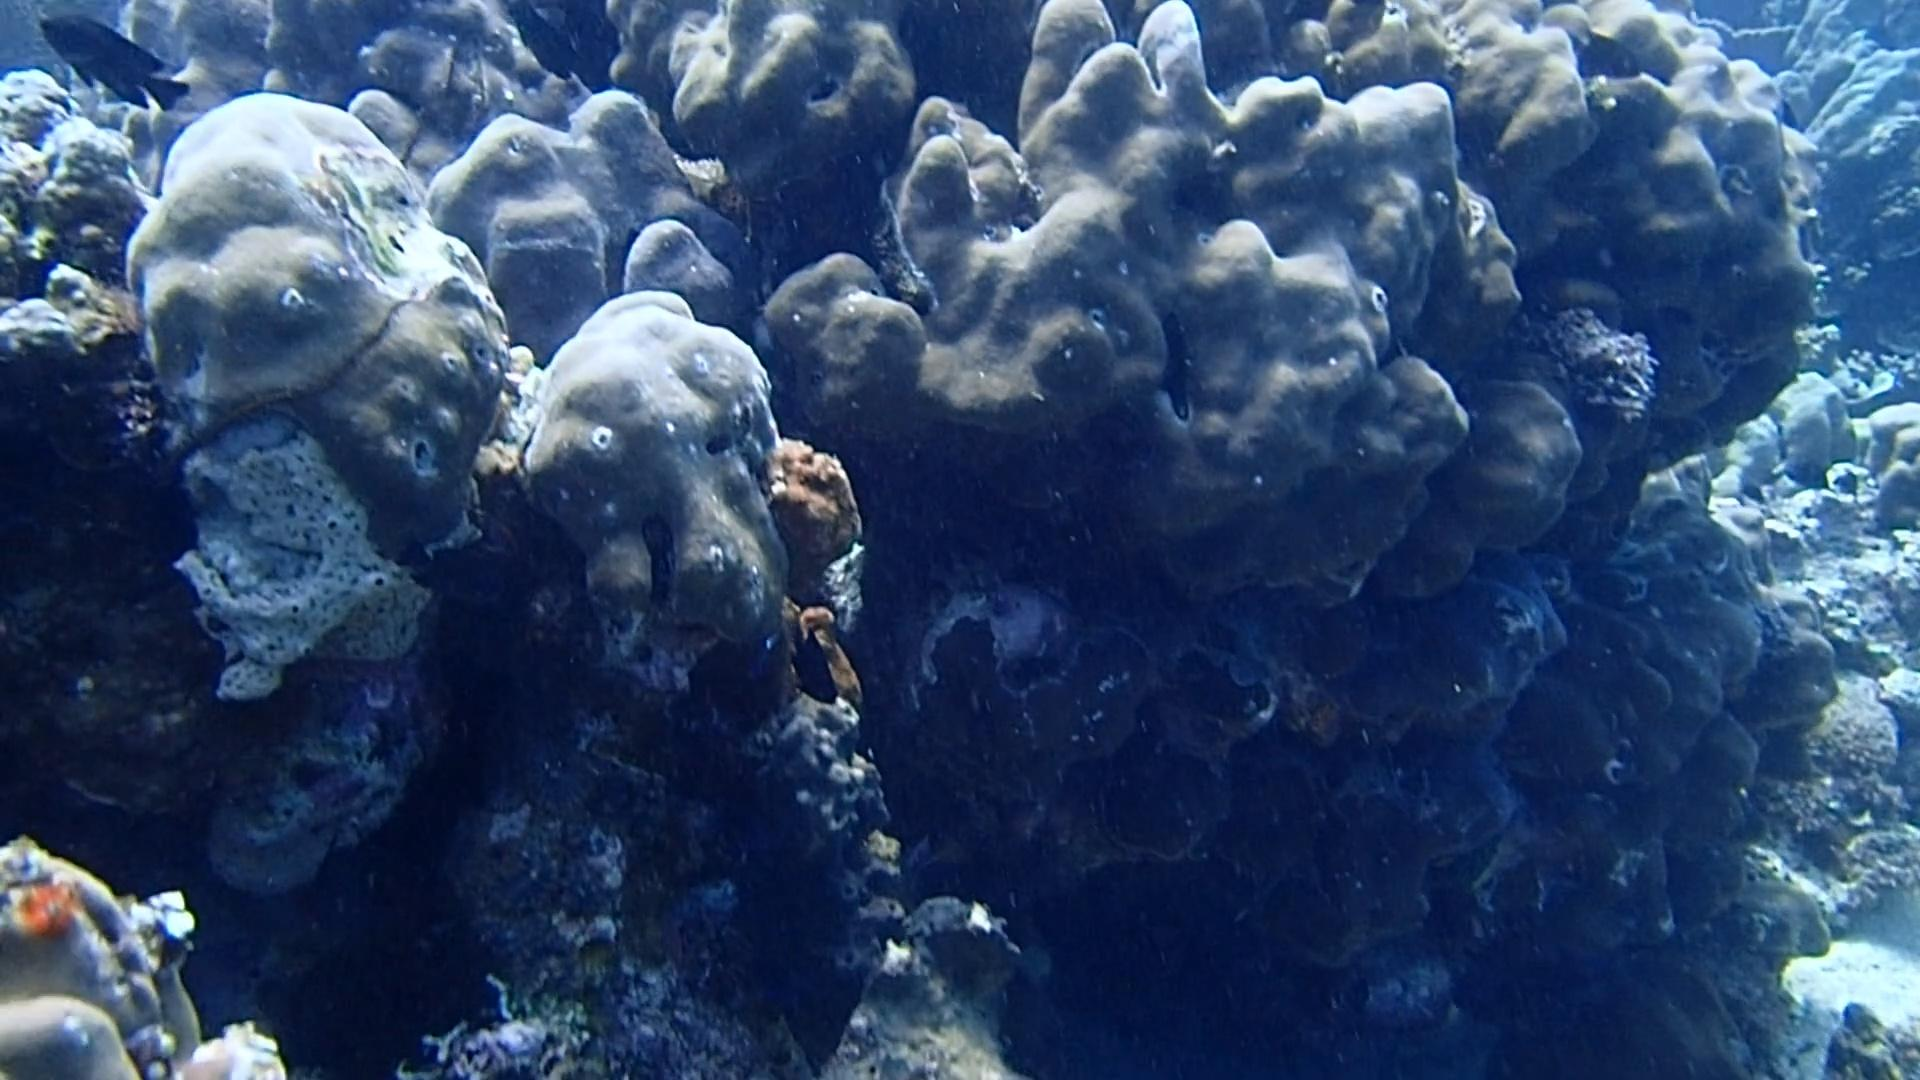Dark Fish: (36, 11, 200, 120), (777, 609, 848, 716), (1561, 21, 1654, 92)
